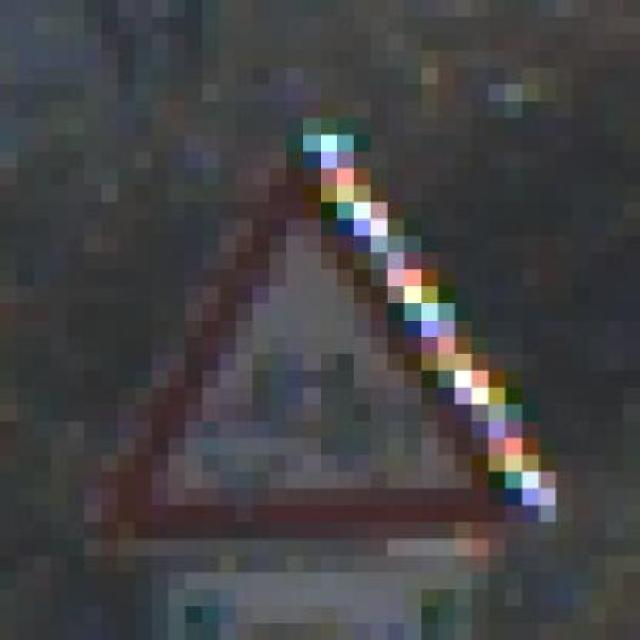CYCLE ROUTE AHEAD WARNING: (67, 101, 556, 573)
